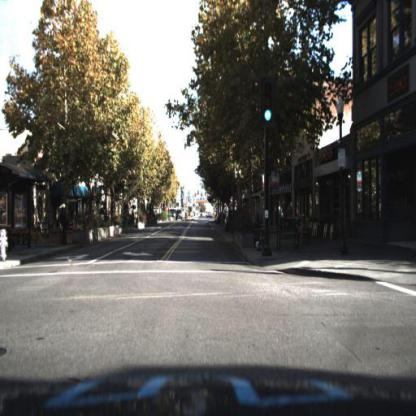pedestrian: (58, 204, 73, 247), (283, 198, 295, 235), (288, 200, 298, 235), (60, 203, 68, 246)
trafficLight: (262, 85, 275, 123)
trafficLight-Green: (260, 81, 276, 130)
